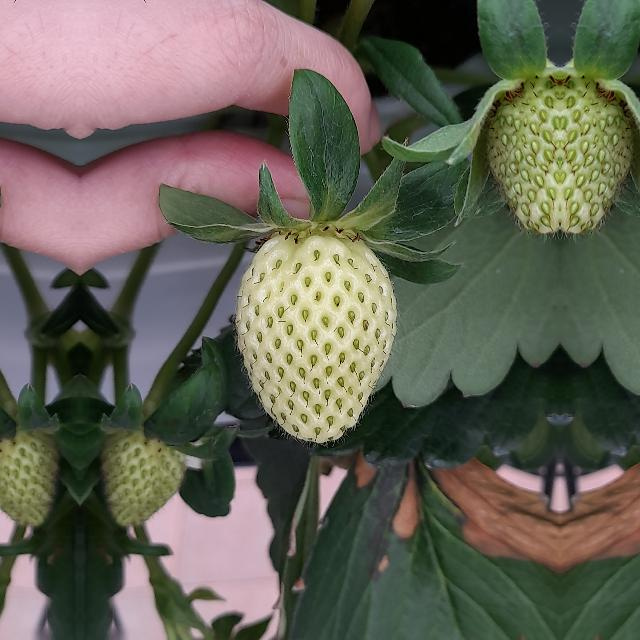Health_25: (235, 227, 397, 443), (485, 72, 559, 236), (561, 72, 635, 236), (102, 422, 190, 530), (0, 422, 58, 530)
